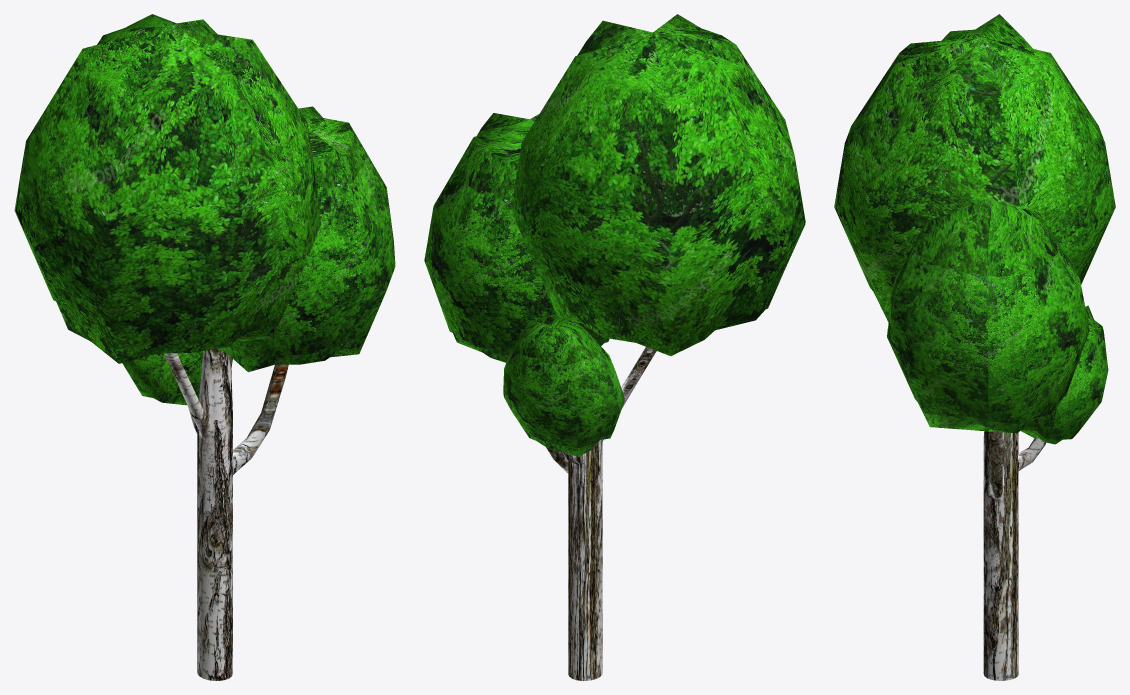
File: дерево_3.fbx
3 views of the same model, side by side, from view 1: azimuth 30°, elevation 25°; view 2: azimuth 150°, elevation 25°; view 3: azimuth 270°, elevation 25° (orthographic). The views are drawn at different scales.
Visible parts, largest first — view 1: pSphere2, pSphere1, pCylinder1, pSphere3; view 2: pSphere2, pSphere1, pSphere3, pCylinder1; view 3: pSphere2, pSphere1, pCylinder1, pSphere3.
Part boxes in pixels (<box>): pSphere2: <box>14,14,320,363</box>; pSphere1: <box>218,106,395,372</box>; pCylinder1: <box>164,348,288,680</box>; pSphere3: <box>122,351,232,405</box>; pSphere2: <box>512,14,805,356</box>; pSphere1: <box>424,113,609,362</box>; pSphere3: <box>503,316,624,456</box>; pCylinder1: <box>546,347,656,680</box>; pSphere2: <box>834,14,1115,322</box>; pSphere1: <box>887,198,1089,433</box>; pCylinder1: <box>983,431,1045,680</box>; pSphere3: <box>1020,305,1108,444</box>.
Size of the model in its own units: 13.12 by 23.66 by 9.89.
